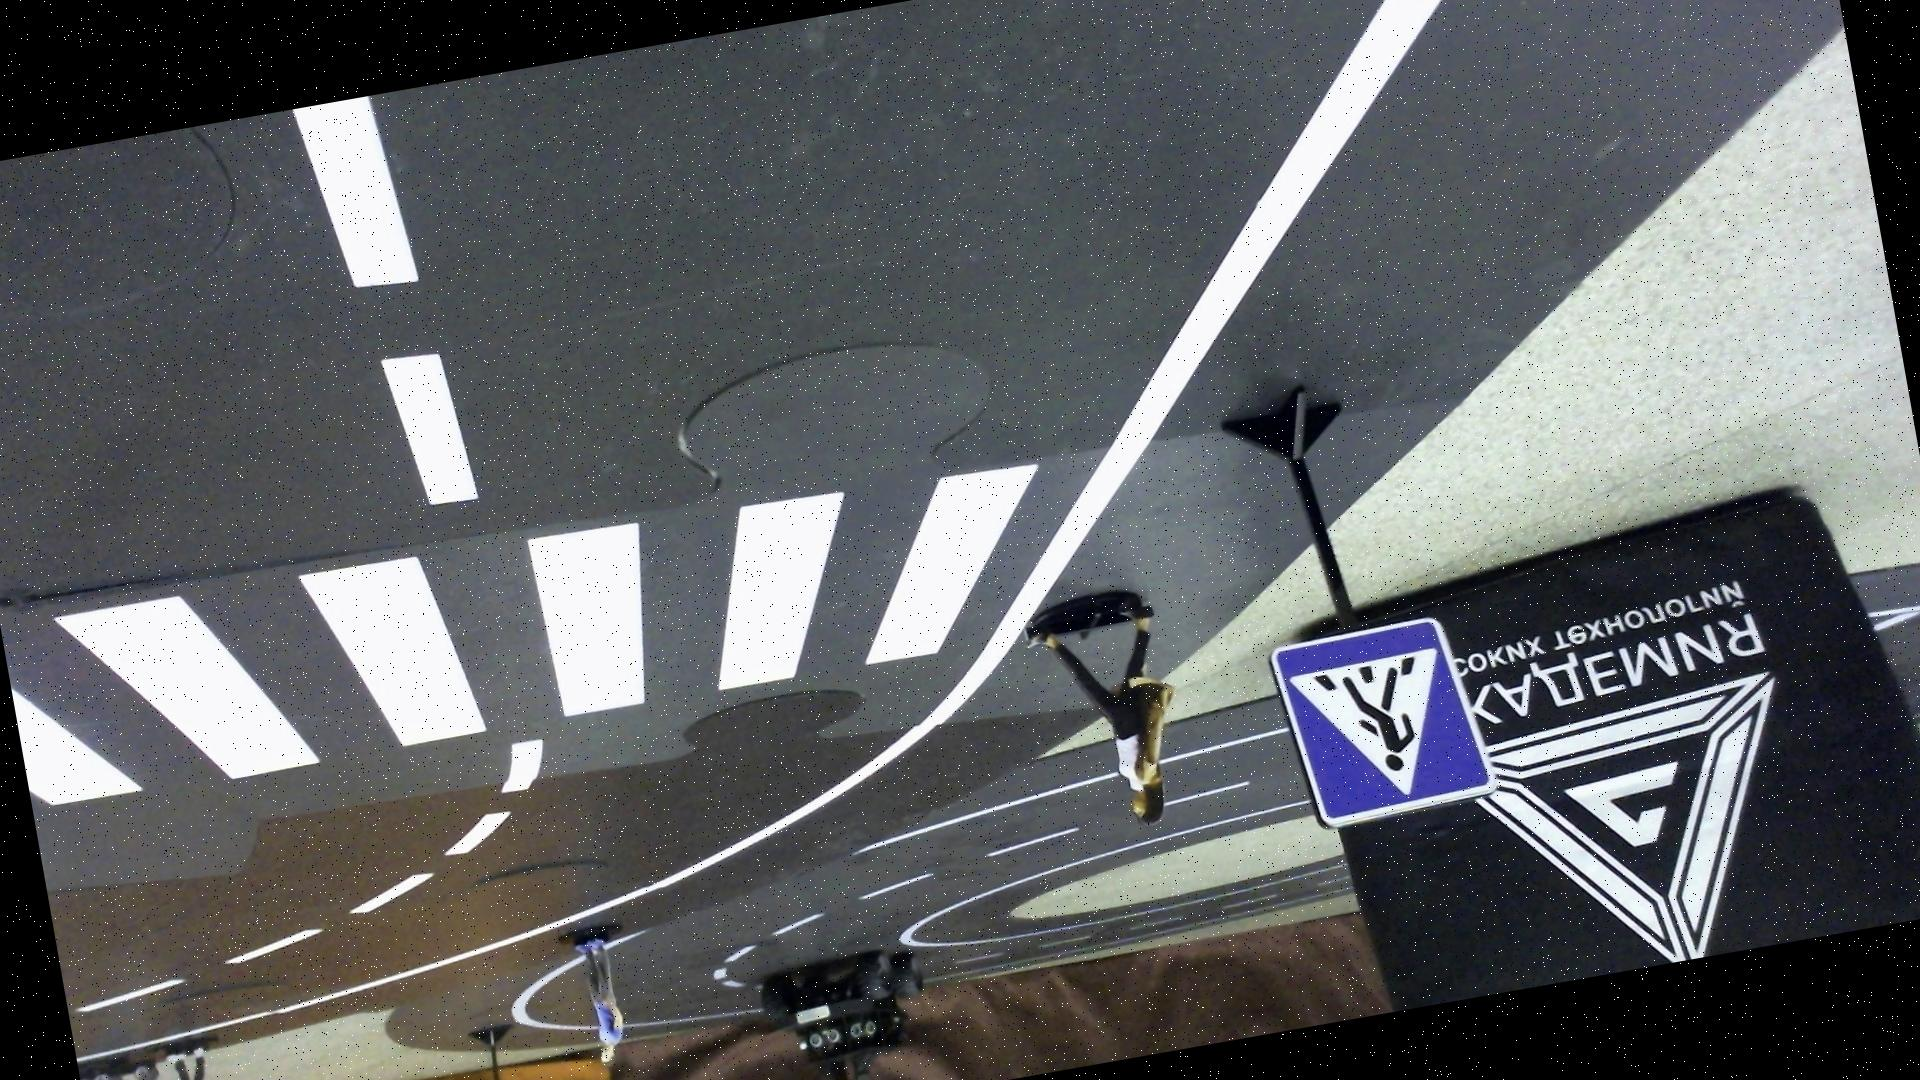crossing: (0, 424, 1117, 826)
person: (1012, 579, 1200, 844), (565, 926, 640, 1072), (156, 1041, 229, 1080)
